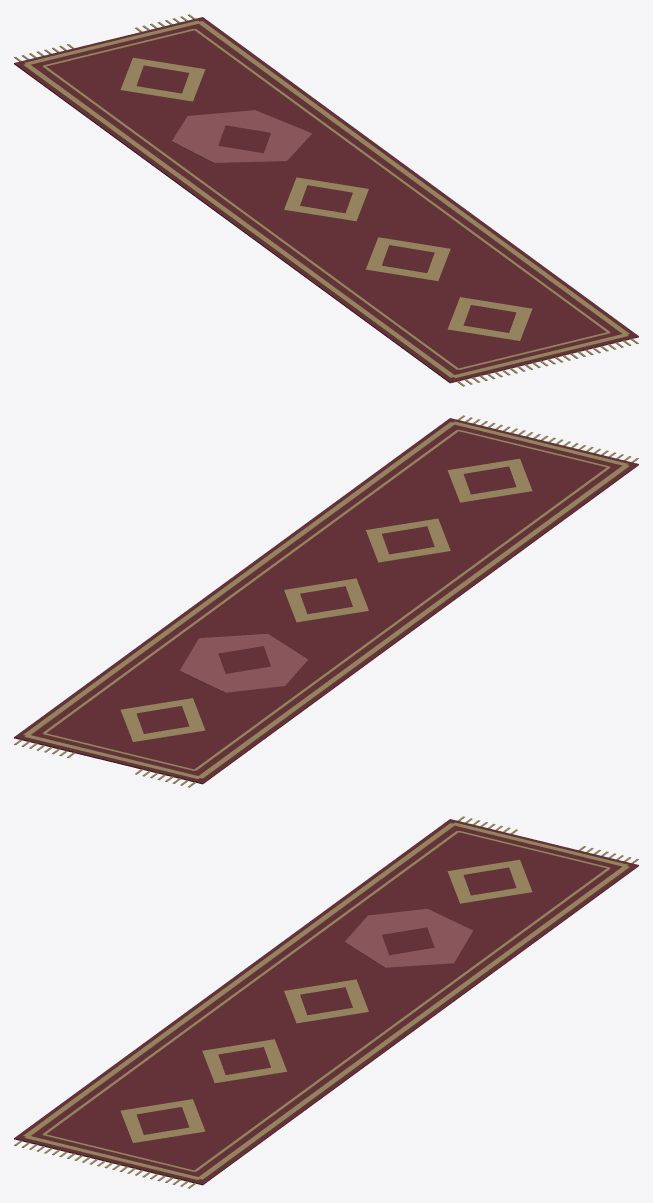
File: rug_runner.glb
The picture shows the model from 3 angles, top to bottom: view 1: azimuth 30°, elevation 25°; view 2: azimuth 150°, elevation 25°; view 3: azimuth 330°, elevation 25°; orthographic projection.
Parts seen in each view (by area): view 1: RugRunner; view 2: RugRunner; view 3: RugRunner.
Part boxes in pixels (left/top/right/bottom): RugRunner: left=14, top=14, right=638, bottom=386; RugRunner: left=14, top=415, right=638, bottom=787; RugRunner: left=14, top=816, right=638, bottom=1188.
Size of the model in its own units: 2 by 0.017 by 8.24.
